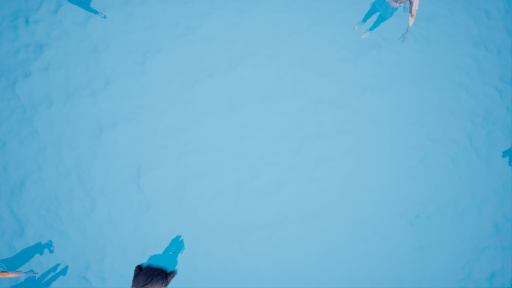person: (118, 224, 188, 288), (345, 1, 429, 41)
